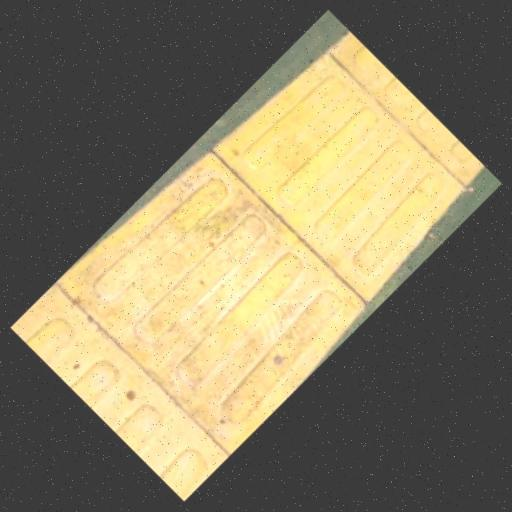line: (53, 149, 370, 455), (211, 49, 467, 302)
